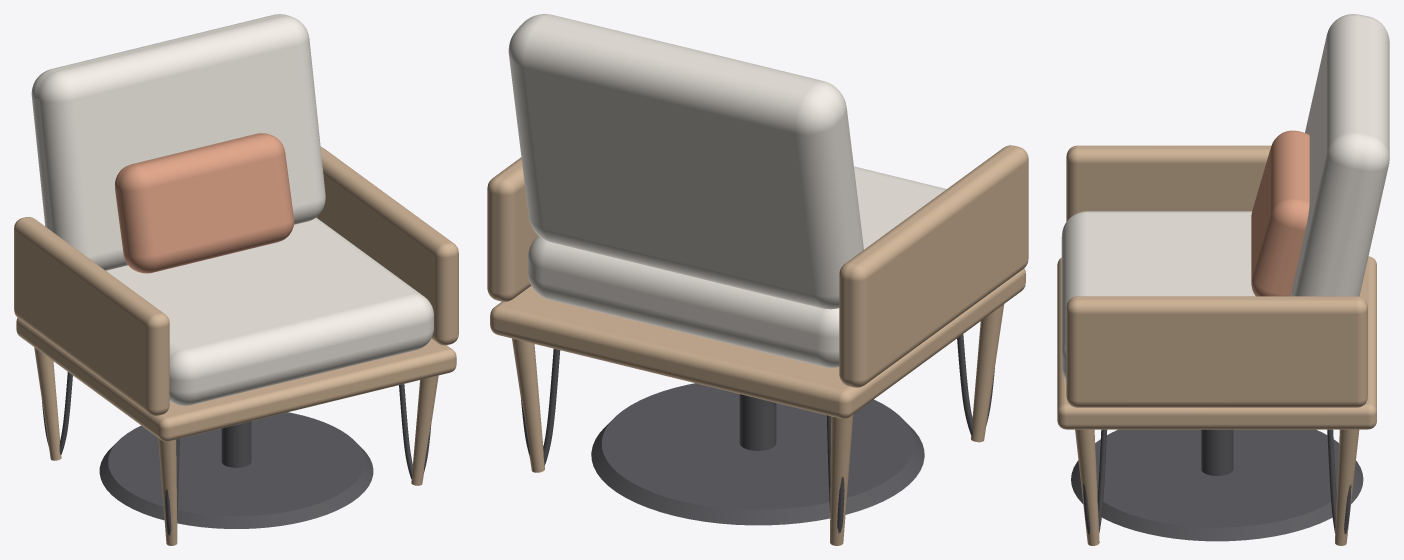
The model's file is lounge-chair.glb.
3 views of the same model, side by side, from view 1: azimuth 30°, elevation 25°; view 2: azimuth 150°, elevation 25°; view 3: azimuth 270°, elevation 25° (orthographic). The views are drawn at different scales.
Visible parts, largest first — view 1: Back, Seat, Legs_Swivel, Pillow, Arm_L, Frame, Arm_R, Legs_Tapered, Legs_Hairpin; view 2: Back, Legs_Swivel, Arm_L, Seat, Frame, Legs_Tapered, Arm_R, Legs_Hairpin; view 3: Arm_R, Legs_Swivel, Back, Seat, Arm_L, Frame, Pillow, Legs_Tapered, Legs_Hairpin.
Boxes of the visible parts, x1,y1,x2,y2 form: Back: (31,14,325,270); Seat: (106,217,433,405); Legs_Swivel: (99,412,373,528); Pillow: (115,133,294,273); Arm_L: (14,217,169,415); Frame: (16,318,456,441); Arm_R: (316,147,458,345); Legs_Tapered: (34,347,438,545); Legs_Hairpin: (41,372,430,535); Back: (508,14,863,309); Legs_Swivel: (591,383,924,525); Arm_L: (839,145,1028,387); Seat: (528,166,946,367); Frame: (490,268,1025,418); Legs_Tapered: (512,304,1004,545); Arm_R: (487,157,538,301); Legs_Hairpin: (521,334,994,533); Arm_R: (1066,296,1367,407); Legs_Swivel: (1071,429,1363,541); Back: (1291,14,1389,296); Seat: (1061,211,1255,380); Arm_L: (1066,145,1271,221); Frame: (1057,256,1376,429); Pillow: (1251,130,1309,296); Legs_Tapered: (1075,429,1359,545); Legs_Hairpin: (1083,429,1351,534).
Bounding box in the file's own units: 0.84 × 0.9804 × 0.7275.
